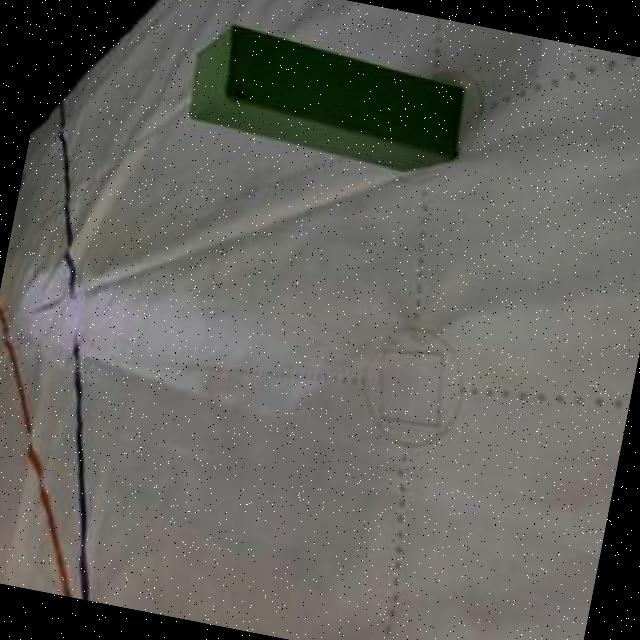greenbox: (177, 15, 472, 184)
